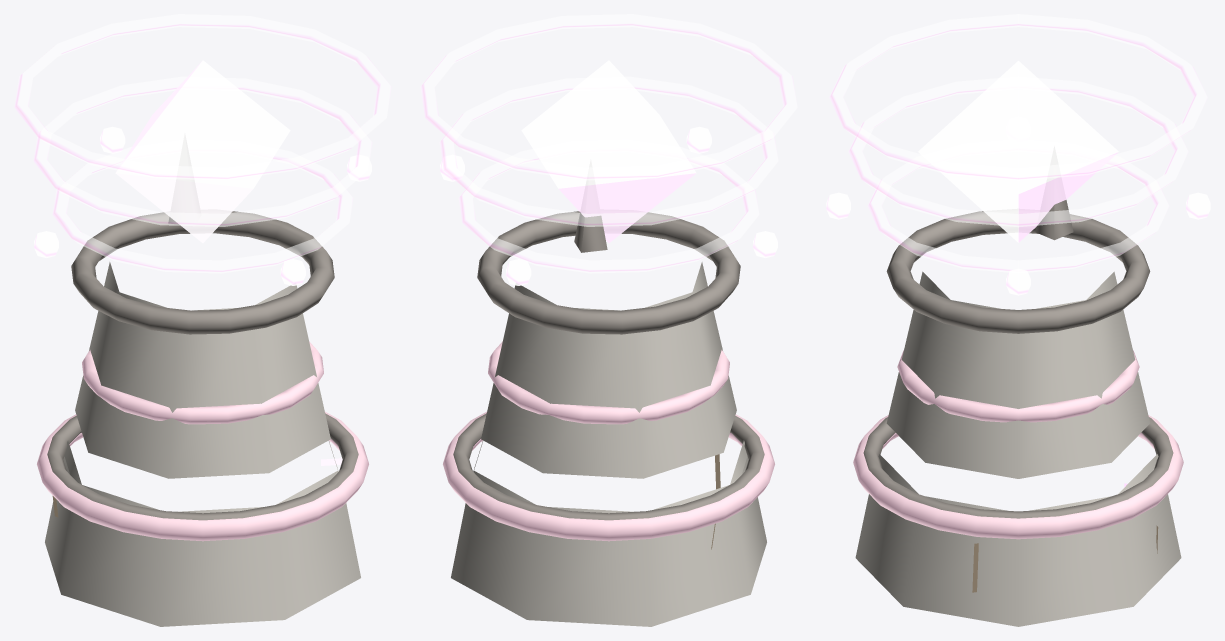
Rendered from tower_amp_3.glb.
3 views of the same model, side by side, from view 1: azimuth 30°, elevation 25°; view 2: azimuth 150°, elevation 25°; view 3: azimuth 270°, elevation 25° (orthographic).
Parts seen in each view (by area): view 1: turret, base; view 2: turret, base; view 3: turret, base.
Part boxes in pixels (left/top/right/bottom): turret: left=14, top=14, right=391, bottom=478; base: left=37, top=217, right=368, bottom=626; turret: left=420, top=14, right=797, bottom=478; base: left=443, top=212, right=774, bottom=626; turret: left=826, top=14, right=1210, bottom=478; base: left=853, top=200, right=1183, bottom=626.
Size of the model in its own units: 3.24 by 4.58 by 3.21.
